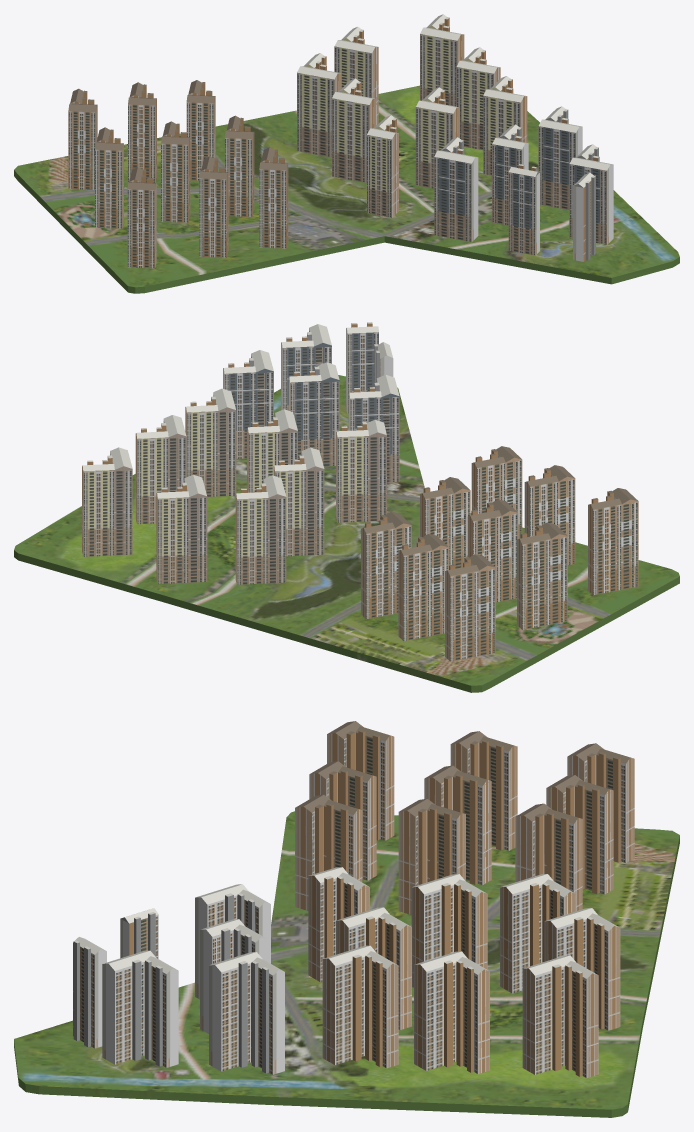
Rendered from ICJ00104_B.glb.
3 views of the same model, one above another, from view 1: azimuth 30°, elevation 25°; view 2: azimuth 150°, elevation 25°; view 3: azimuth 270°, elevation 25° (orthographic). The views are drawn at different scales.
Visible parts, largest first — view 1: MainBuilding; view 2: MainBuilding; view 3: MainBuilding.
Boxes of the visible parts, x1,y1,x2,y2 form: MainBuilding: (14, 14, 679, 293); MainBuilding: (14, 322, 679, 692); MainBuilding: (14, 721, 679, 1117).
Bounding box in the file's own units: 3636 × 631 × 3413.
1 material, 1 textured.
